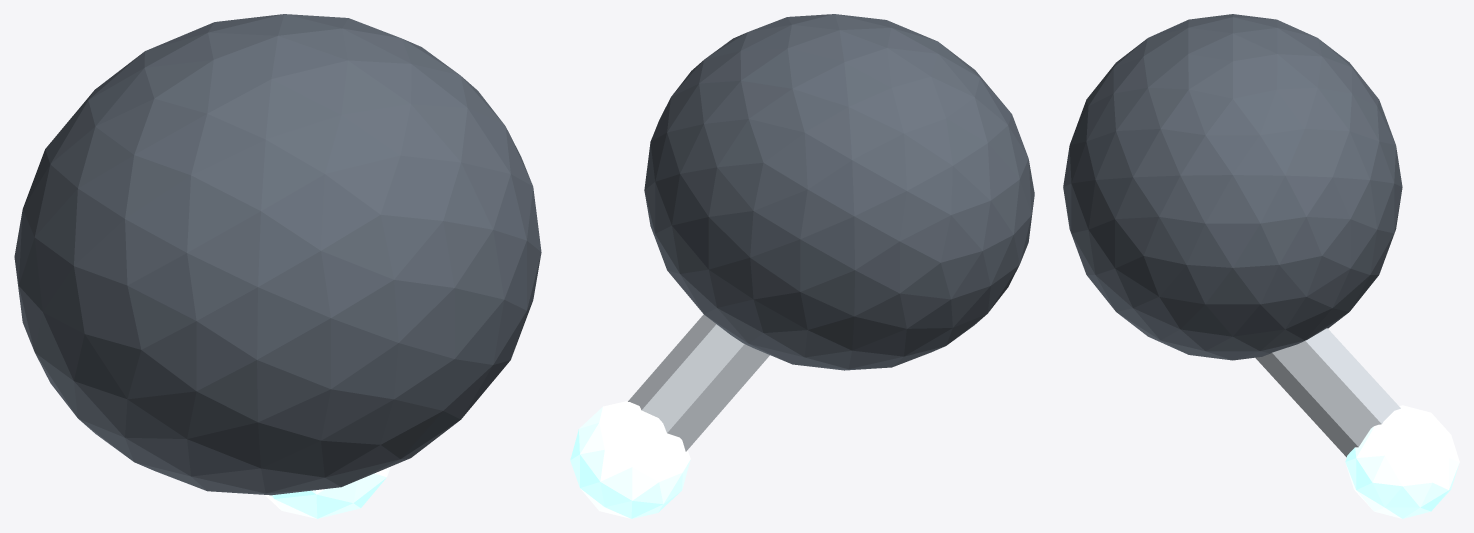
Rendered from agarre_4.glb.
The picture shows the model from 3 angles, left to right: view 1: azimuth 30°, elevation 25°; view 2: azimuth 150°, elevation 25°; view 3: azimuth 270°, elevation 25°; orthographic projection. The views are drawn at different scales.
Parts seen in each view (by area): view 1: nucleo, punta; view 2: nucleo, punta, brazo; view 3: nucleo, punta, brazo.
Boxes of the visible parts, x1,y1,x2,y2 form: nucleo: (14,14,541,495); punta: (265,467,390,518); nucleo: (644,14,1034,370); punta: (570,401,690,518); brazo: (628,314,769,451); nucleo: (1063,14,1402,360); punta: (1345,405,1459,518); brazo: (1255,328,1400,457).
Bounding box in the file's own units: 0.7326 × 0.9 × 0.7611.
